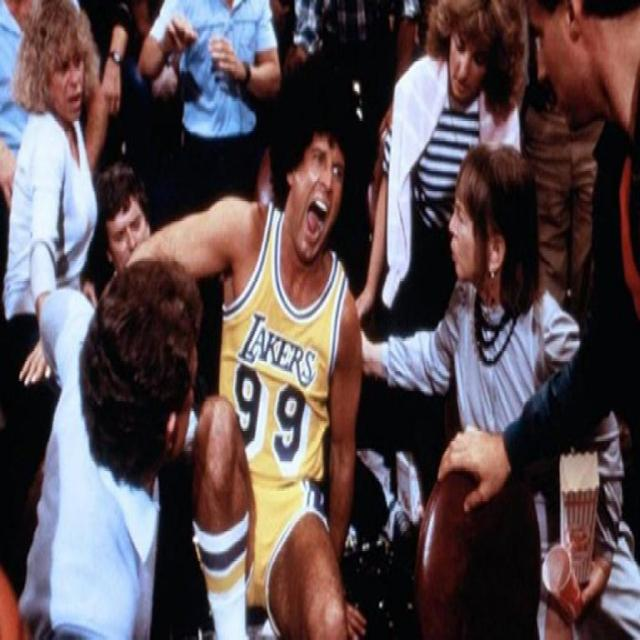nomask: (533, 1, 591, 126), (294, 136, 345, 262), (446, 13, 484, 107), (443, 191, 482, 280), (111, 196, 148, 276), (52, 34, 86, 116)
